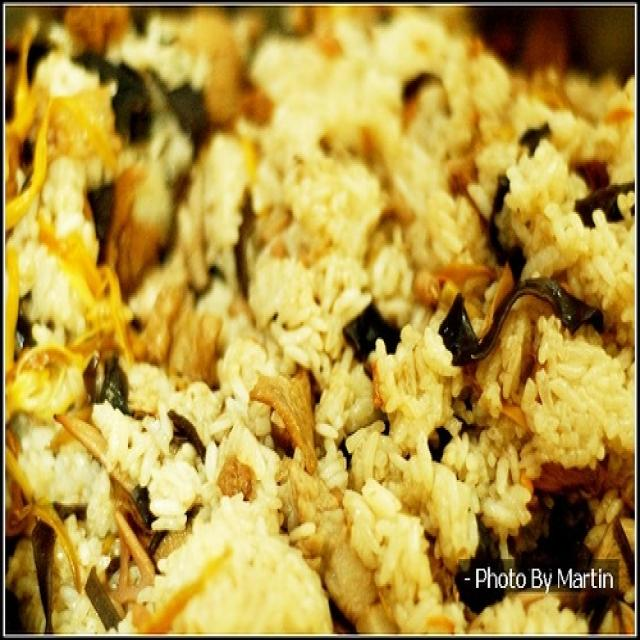米饭主食: (30, 25, 620, 615)
